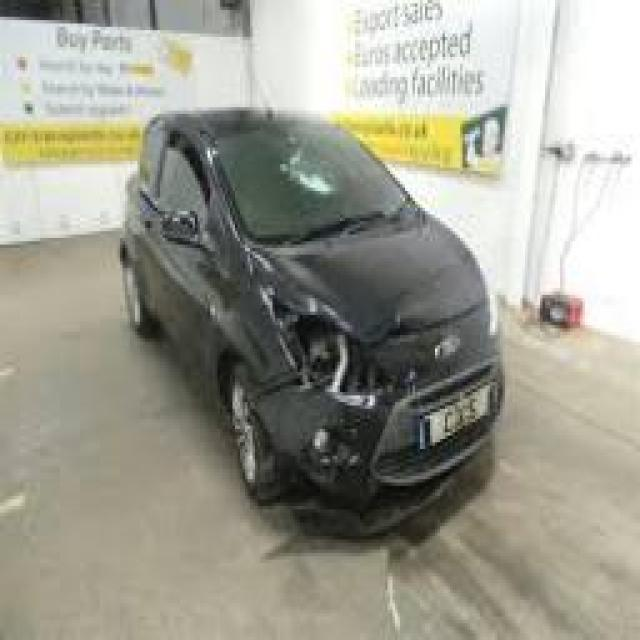Bumper: (269, 417, 497, 541)
Light: (267, 288, 395, 410)
